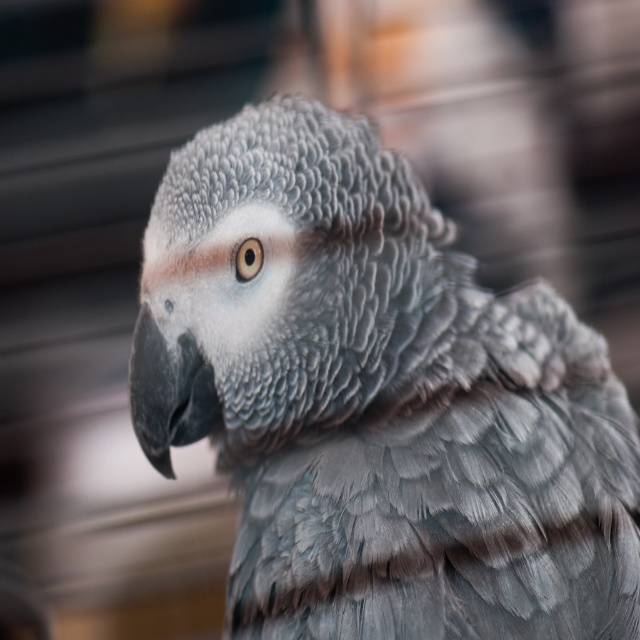Parrot: (127, 90, 640, 640)
